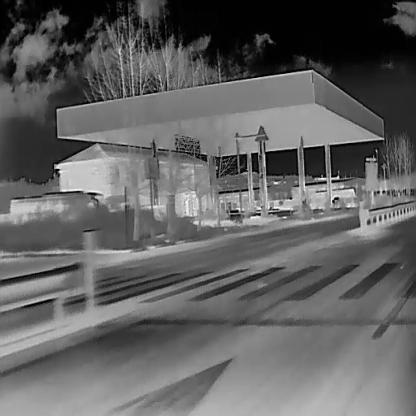car: (8, 189, 105, 218), (313, 186, 357, 202)
